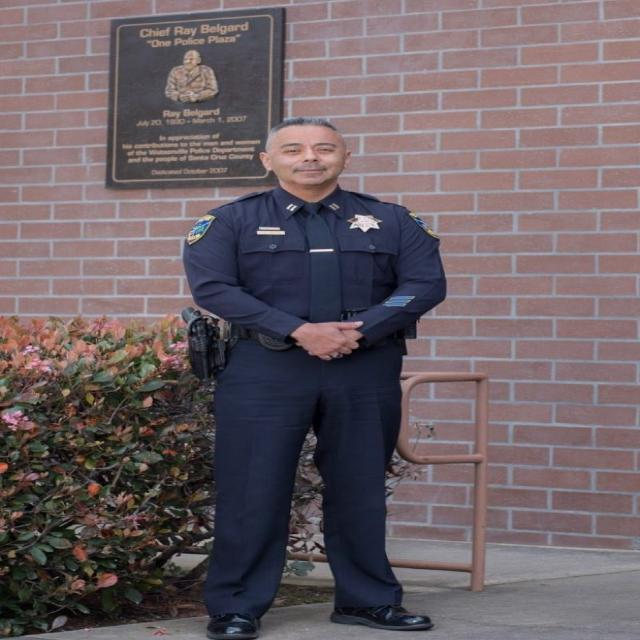police: (126, 117, 483, 640)
